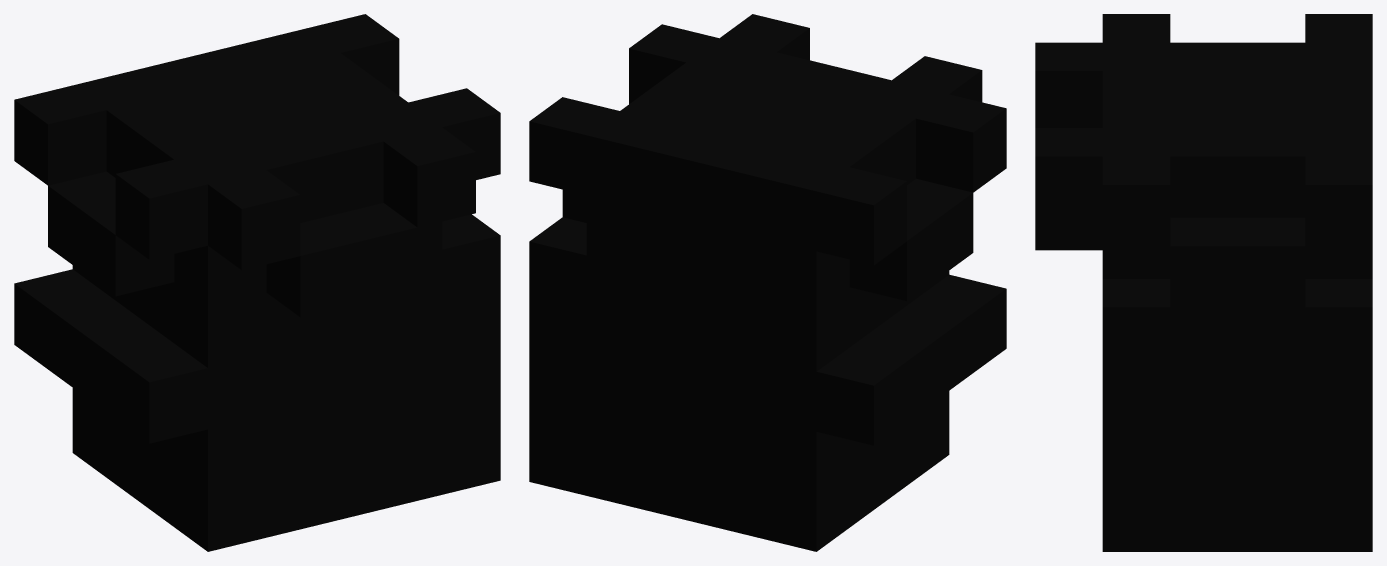
Rendered from potato_right_boot.obj.
3 views of the same model, side by side, from view 1: azimuth 30°, elevation 25°; view 2: azimuth 150°, elevation 25°; view 3: azimuth 270°, elevation 25° (orthographic).
Parts seen in each view (by area): view 1: potato_right_boot; view 2: potato_right_boot; view 3: potato_right_boot.
Part boxes in pixels (x1,y1,x2,y2): potato_right_boot: (14,14,500,551); potato_right_boot: (529,14,1006,551); potato_right_boot: (1035,14,1372,551).
Bounding box in the file's own units: 6 × 6 × 5.
